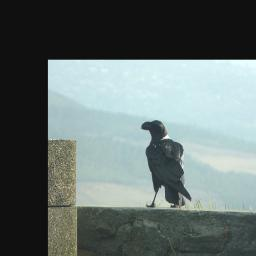Crow: (139, 119, 192, 208)
